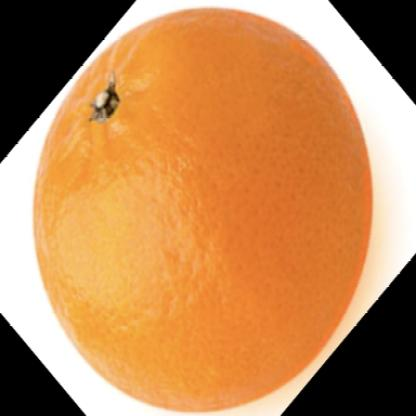fresh: (35, 10, 371, 409)
